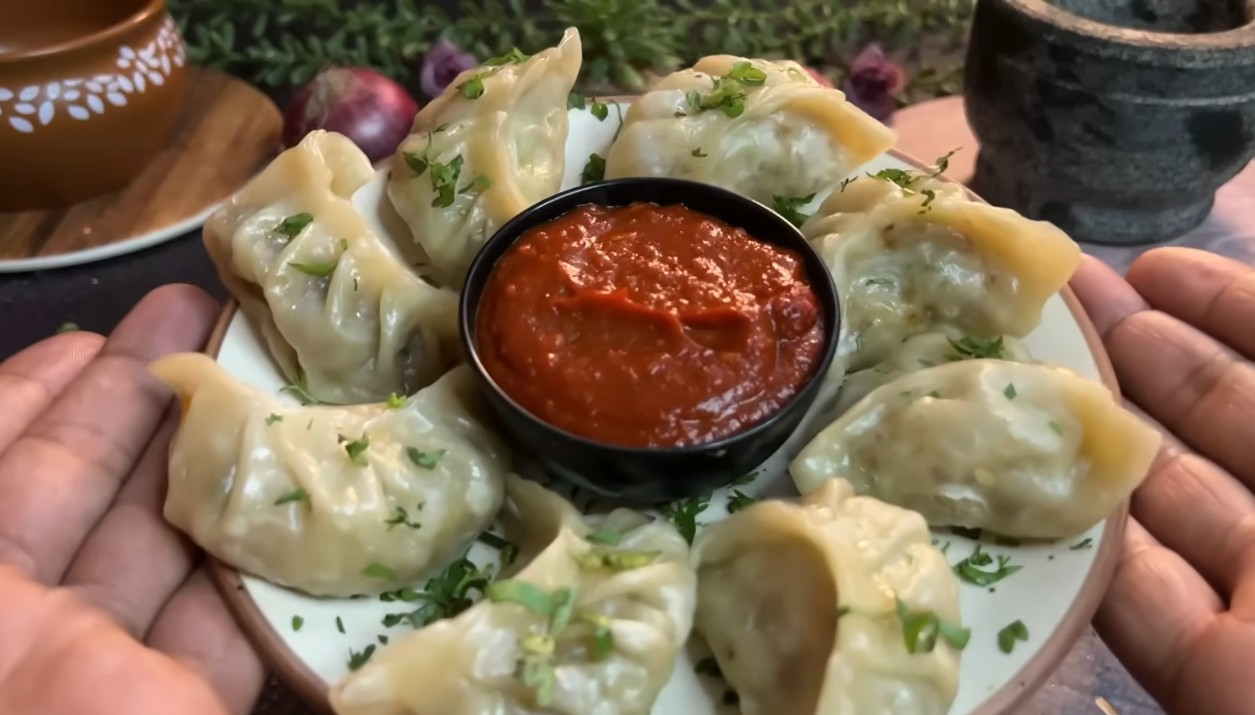momo: (153, 348, 510, 603), (320, 472, 692, 713), (195, 122, 465, 410), (782, 348, 1172, 547), (697, 470, 987, 715), (378, 18, 593, 283), (803, 175, 1092, 358), (598, 50, 907, 197)
